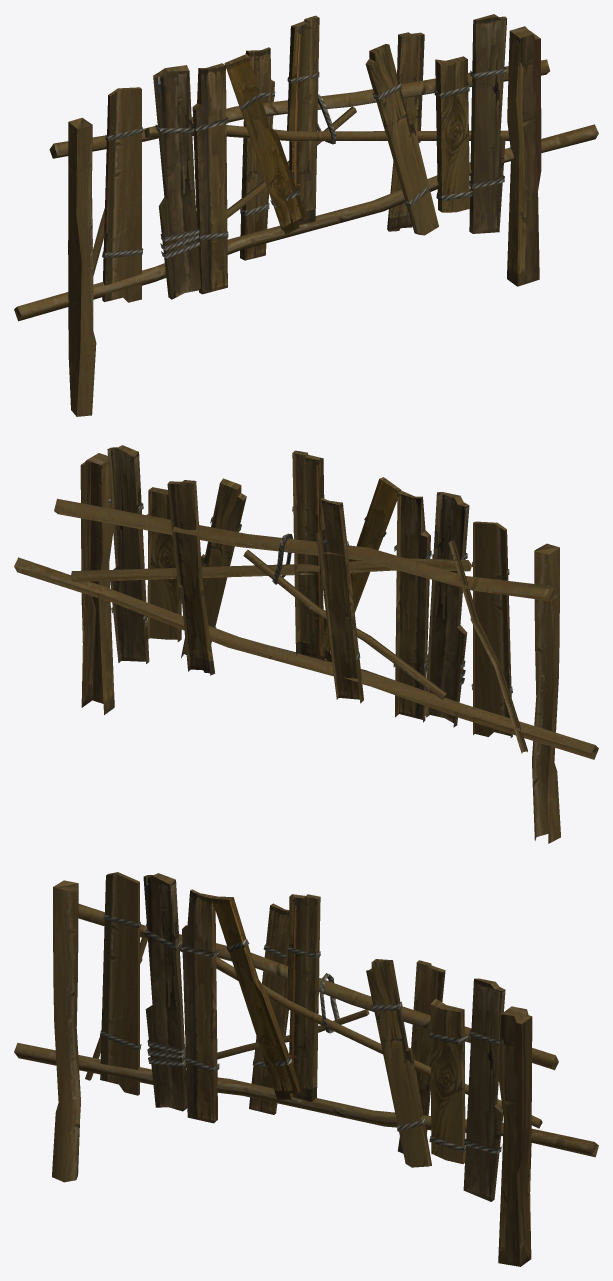
File: 6001_Item_mutou_5.FBX
3 renders of one model, top to bottom at view 1: azimuth 30°, elevation 25°; view 2: azimuth 150°, elevation 25°; view 3: azimuth 330°, elevation 25°, orthographic.
Parts seen in each view (by area): view 1: 6001_Item_mutou_5; view 2: 6001_Item_mutou_5; view 3: 6001_Item_mutou_5.
Part boxes in pixels (box(x1,y1,x2,y2)): 6001_Item_mutou_5: box(14, 14, 598, 416); 6001_Item_mutou_5: box(14, 445, 598, 843); 6001_Item_mutou_5: box(14, 872, 598, 1266).
Size of the model in its own units: 460 by 37.06 by 253.
1 material, 1 textured.
